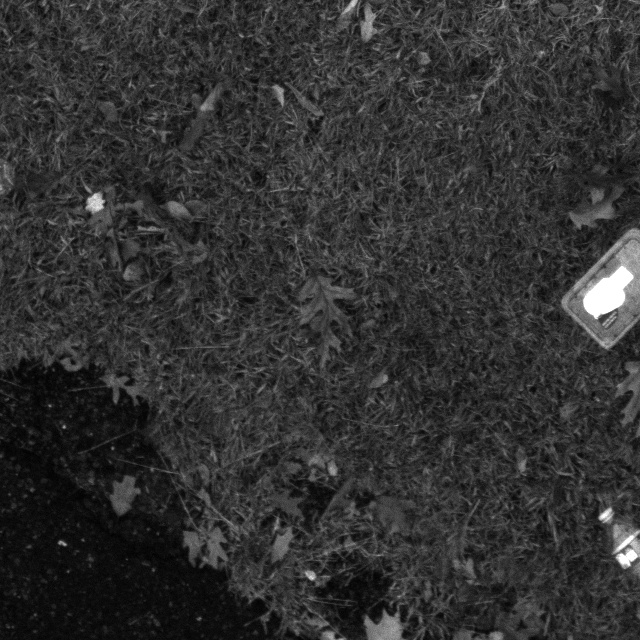bottle: (583, 495, 640, 619)
container: (555, 210, 640, 364)
